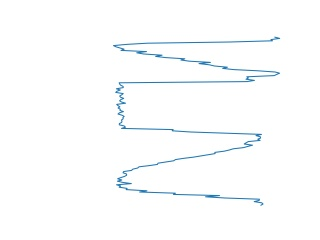distributaryChannelFill: (111, 74, 268, 139)
mouthBar: (111, 35, 281, 78)
underwaterDistributaryChannel: (113, 138, 267, 208)
